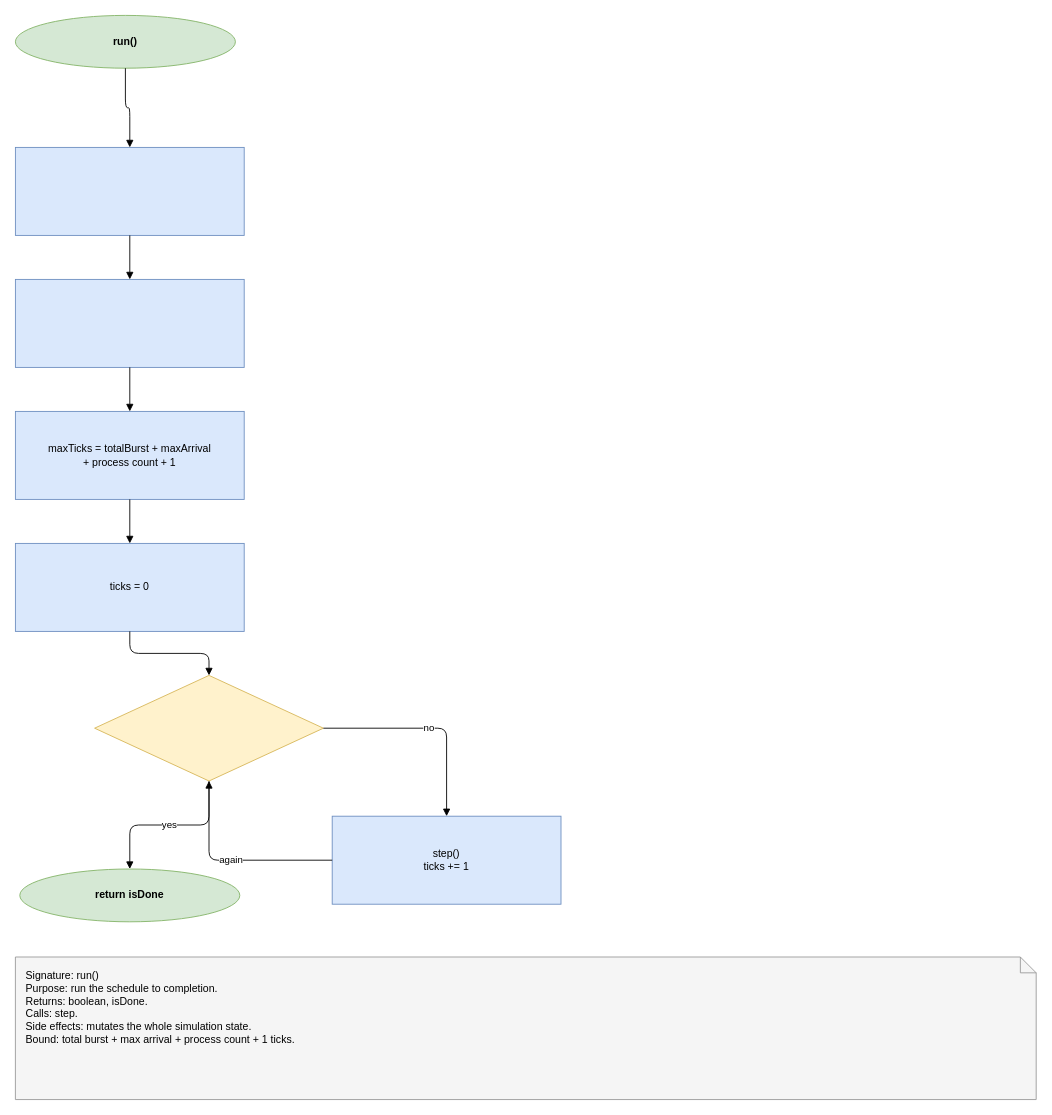
This 1052x1115 diagram has some shape labels left out. Each missing label, with the centre of its shape:
isDone or ticks >= maxTicks?: (208,728)
maxArrival = largest arrival: (129,323)
totalBurst = sum of all burst values: (129,191)
